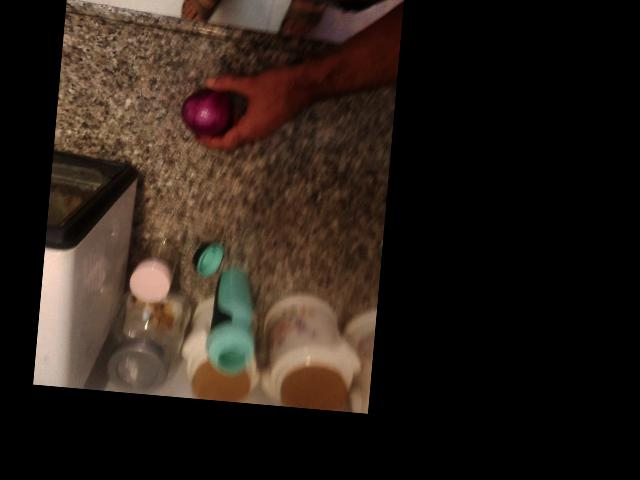onion: (54, 200, 122, 263)
